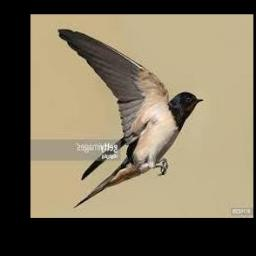Swallow: (57, 29, 205, 208)
